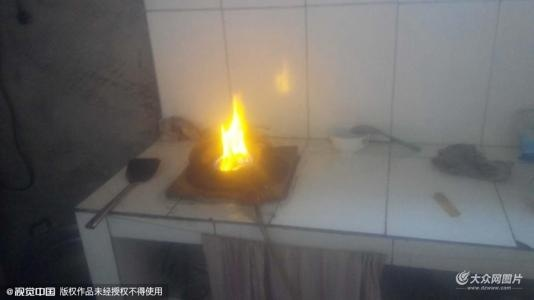fire: (214, 93, 252, 171)
